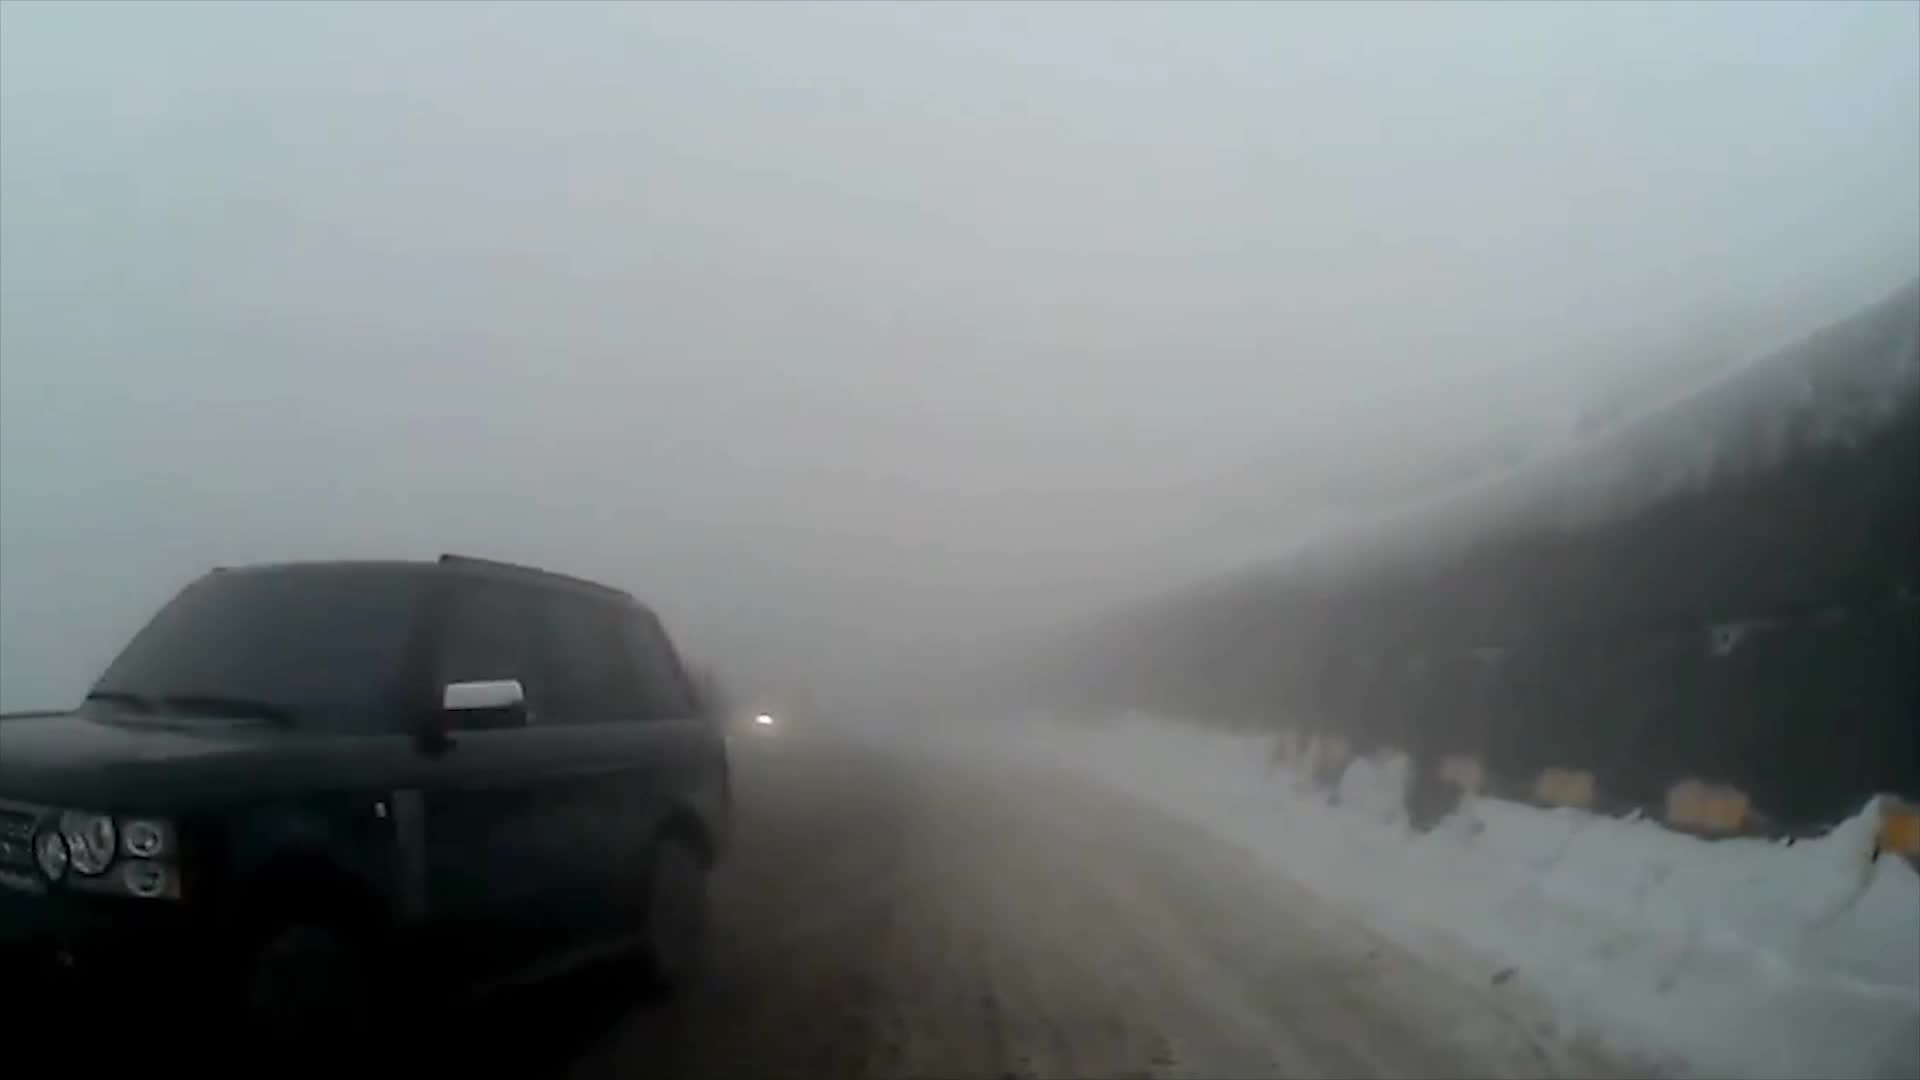vehicle: (0, 551, 735, 1080)
